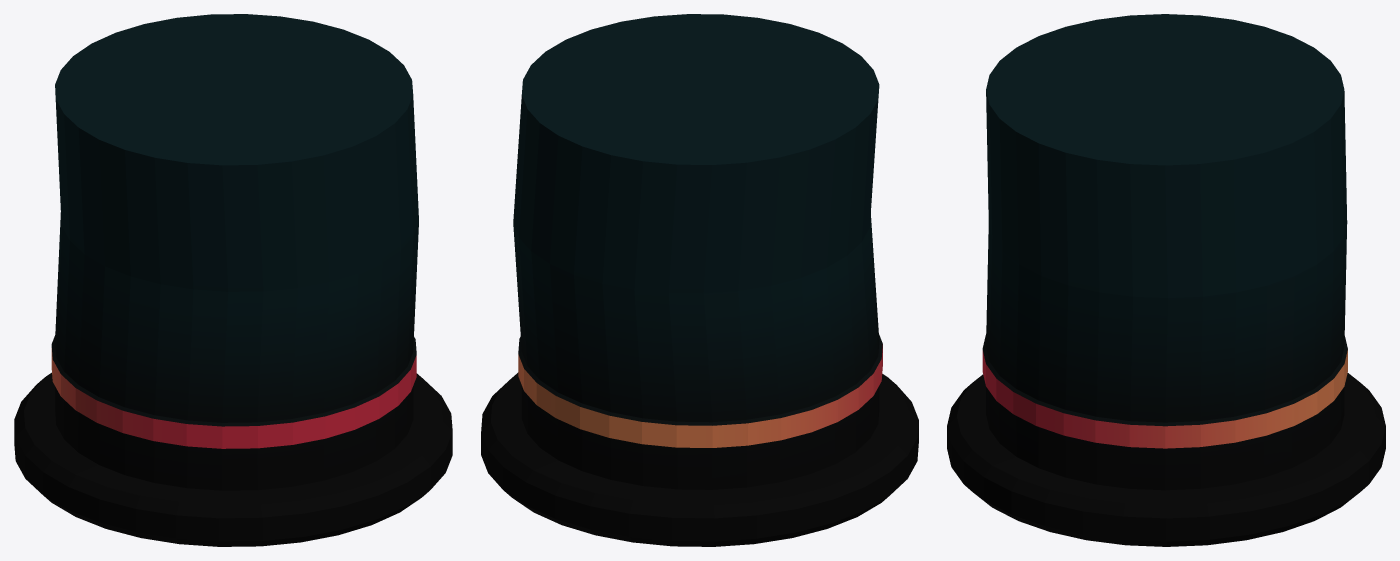
Rendered from Hat_elegant.fbx.
3 views of the same model, side by side, from view 1: azimuth 30°, elevation 25°; view 2: azimuth 150°, elevation 25°; view 3: azimuth 270°, elevation 25° (orthographic).
Visible parts, largest first — view 1: Cylinder; view 2: Cylinder; view 3: Cylinder.
Part boxes in pixels (x1,y1,x2,y2): Cylinder: [14, 14, 452, 546]; Cylinder: [481, 14, 918, 546]; Cylinder: [947, 14, 1385, 546].
Size of the model in its own units: 172 by 159 by 172.
